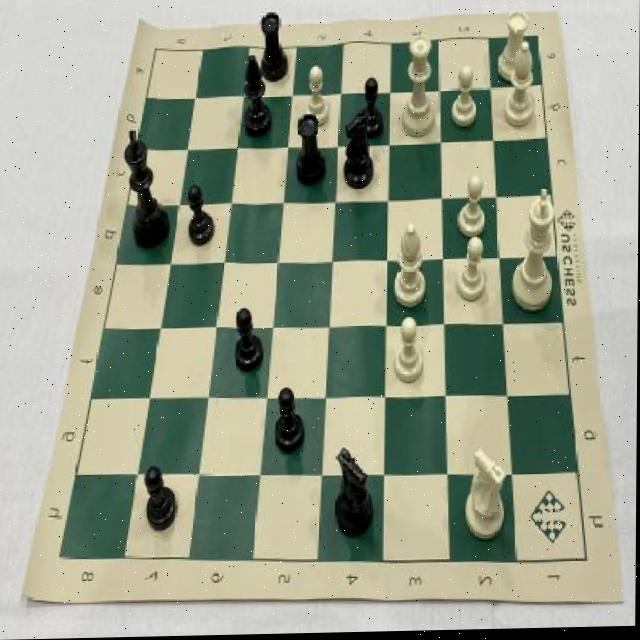bishop: (240, 50, 276, 143)
black-bishop: (121, 123, 173, 254)
black-king: (330, 439, 377, 546), (339, 110, 376, 195)
black-knight: (272, 381, 311, 461), (142, 460, 182, 536), (232, 305, 266, 380), (354, 76, 387, 145), (183, 181, 216, 250)
black-queen: (289, 111, 330, 190), (253, 12, 291, 88)
black-rook: (392, 220, 431, 314), (502, 41, 540, 133)
white-bishop: (509, 185, 563, 318)
white-king: (458, 443, 511, 548)
white-knight: (389, 312, 429, 390), (455, 234, 494, 307), (446, 63, 483, 136), (299, 62, 334, 132), (458, 171, 491, 242)
white-pawn: (398, 29, 441, 146)
white-queen: (492, 1, 534, 87)
